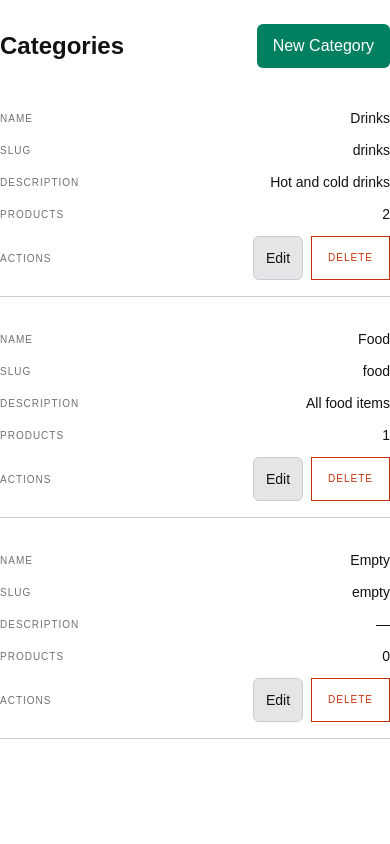
Test: CategoriesPage › opens confirm dialog when delete is clicked on empty category
Click the button with aria-label "delete empty" at (351, 700), box [311, 678, 389, 722]
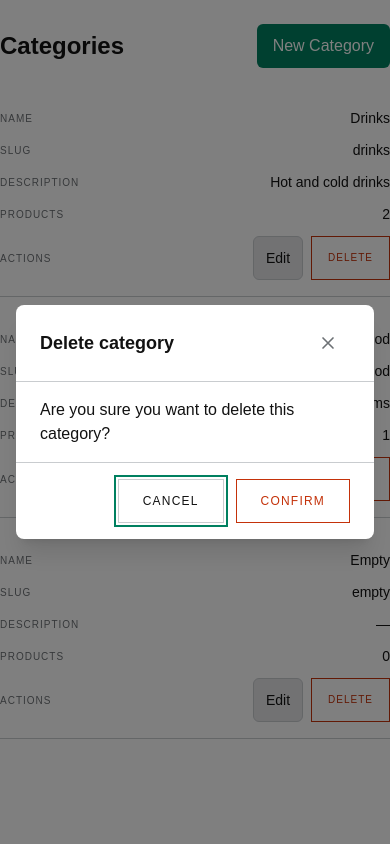
Check: the text "Are you sure you want to delete this category?" is shown, box [40, 401, 294, 442]
